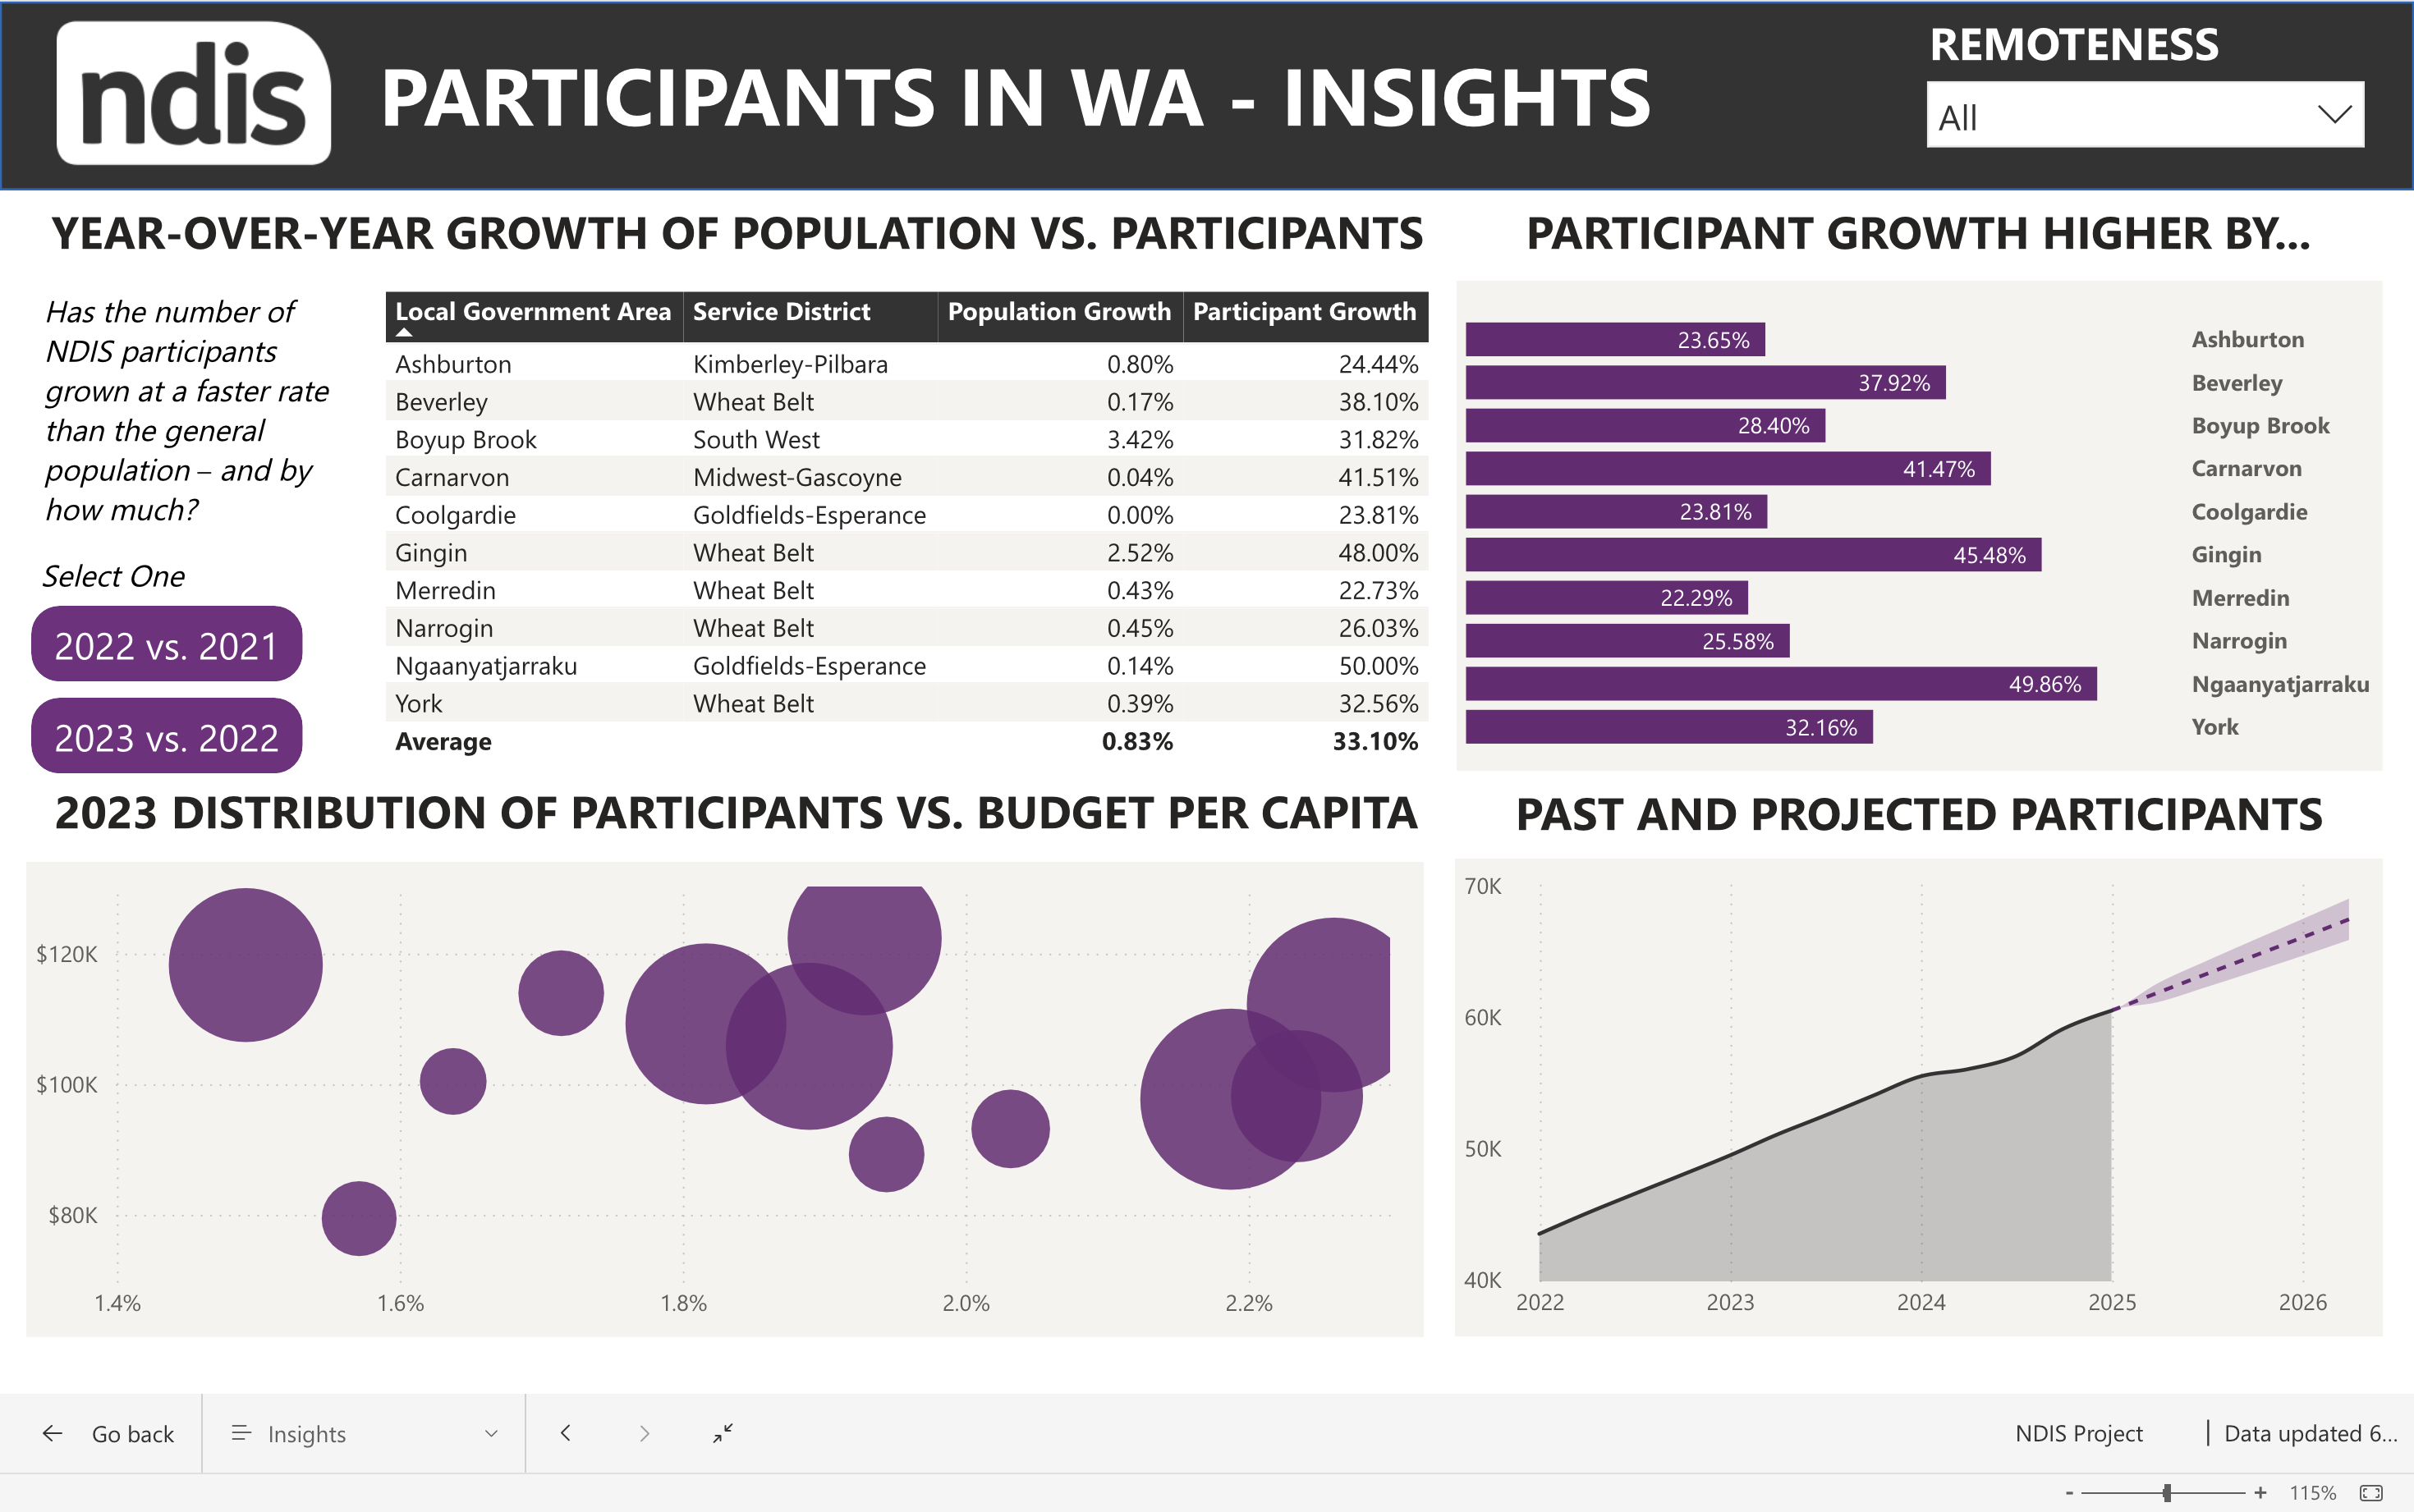

What the dashboard file says about the page in this screenshot:
{"tool":"powerbi","page":{"name":"Insights","canvas":[1280,720],"ordinal":2},"visuals":[{"type":"shape","box":[0,0,1280,100],"z":0,"group":"g2"},{"type":"group","id":"g1","title":"Group 1","box":[10,5,1023.2,86.6],"z":0,"group":"g5"},{"type":"slicer","title":"Date","fields":{"Values":["First Nations Participants.Short MMM Names"]},"box":[1012.1,32.2,251.8,60.8],"z":0,"group":"g3"},{"type":"lineChart","title":"Past and Projected Participant Growth","fields":{"Y":["Sum(Participants.Participants)"],"Category":["Participants.Date.Variation.Date Hierarchy.Year"]},"box":[771.9,454.7,492.1,253.3],"z":0},{"type":"group","id":"g2","title":"Title","box":[0,0,1280,100],"z":1000},{"type":"textbox","title":"Participants in WA","box":[196.3,14.2,836.9,70.1],"z":1000,"group":"g1"},{"type":"image","title":"NDIS Logo","box":[10,5,186.4,86.6],"z":2000,"group":"g1"},{"type":"tableEx","title":"2022 Top Areas by Disability Growth - 2022-23","fields":{"Values":["Participants.LGA_Name","Geographical Data.LGA_Code Hierarchy.Service_District","Population.2022 Population Growth %","Participants.2022 Participant Growth %","select"]},"box":[198,148.9,566.4,260],"z":2000,"group":"g4"},{"type":"group","id":"g3","title":"Group 3","box":[1012.1,32.2,251.8,60.8],"z":3000},{"type":"textbox","title":"Title","box":[1017.8,0,223.2,48],"z":4000},{"type":"clusteredBarChart","title":"2022 Top Areas by Disability Growth - 2022-23","fields":{"Category":["Participants.LGA_Name"],"Y":["select","Participants.2022 Participant Growth %","Participants.Participant vs Population Growth 2022"]},"box":[772.7,148,491,260],"z":5000},{"type":"textbox","title":"Title","box":[13.6,100,754.5,48.2],"z":6000},{"type":"textbox","box":[16.7,287.9,179.7,32.4],"z":7000},{"type":"actionButton","box":[16.7,320.3,144,40.2],"z":8000},{"type":"actionButton","box":[16.7,369.4,144,40.2],"z":9000},{"type":"textbox","title":"Title","box":[794.5,100,446.4,48.2],"z":10000},{"type":"group","id":"g4","title":"Group 2","box":[18,148,746.4,260.9],"z":11000},{"type":"textbox","box":[18,148,175.5,138.2],"z":11000,"group":"g4"},{"type":"textbox","title":"Title","box":[13.3,407.6,755,48.2],"z":13000},{"type":"scatterChart","fields":{"X":["Participants.2023 Percentage of Population with Disabilities"],"Size":["Participants.2023 Participants"],"Category":["Budgets.Service District"],"Y":["Budgets.2023 Weighted Average Budget"]},"box":[13.5,455.9,741.2,251.8],"z":14000},{"type":"textbox","title":"Title","box":[791.2,408,452.5,48.8],"z":15000},{"type":"group","id":"g5","title":"Group 5","box":[10,5,1023.2,86.6],"z":23004,"group":"g2"}]}

Visuals, with their boxes on the page's 1280x720 design canvas (x1, y1, x2, y2). These are canvas units, not pixel positions in the 2414x1512 screenshot, which may show the page scaled, cropped or inside an application window:
shape: crop(0, 0, 1280, 100)
"Group 1" group: crop(10, 5, 1033, 92)
"Date" slicer: crop(1012, 32, 1264, 93)
"Past and Projected Participant Growth" lineChart: crop(772, 455, 1264, 708)
"Title" group: crop(0, 0, 1280, 100)
"Participants in WA" textbox: crop(196, 14, 1033, 84)
"NDIS Logo" image: crop(10, 5, 196, 92)
"2022 Top Areas by Disability Growth - 2022-23" tableEx: crop(198, 149, 764, 409)
"Group 3" group: crop(1012, 32, 1264, 93)
"Title" textbox: crop(1018, 0, 1241, 48)
"2022 Top Areas by Disability Growth - 2022-23" clusteredBarChart: crop(773, 148, 1264, 408)
"Title" textbox: crop(14, 100, 768, 148)
textbox: crop(17, 288, 196, 320)
actionButton: crop(17, 320, 161, 360)
actionButton: crop(17, 369, 161, 410)
"Title" textbox: crop(794, 100, 1241, 148)
"Group 2" group: crop(18, 148, 764, 409)
textbox: crop(18, 148, 194, 286)
"Title" textbox: crop(13, 408, 768, 456)
scatterChart - Participants.2023 Percentage of Population with Disabilities x Participants.2023 Participants: crop(14, 456, 755, 708)
"Title" textbox: crop(791, 408, 1244, 457)
"Group 5" group: crop(10, 5, 1033, 92)
